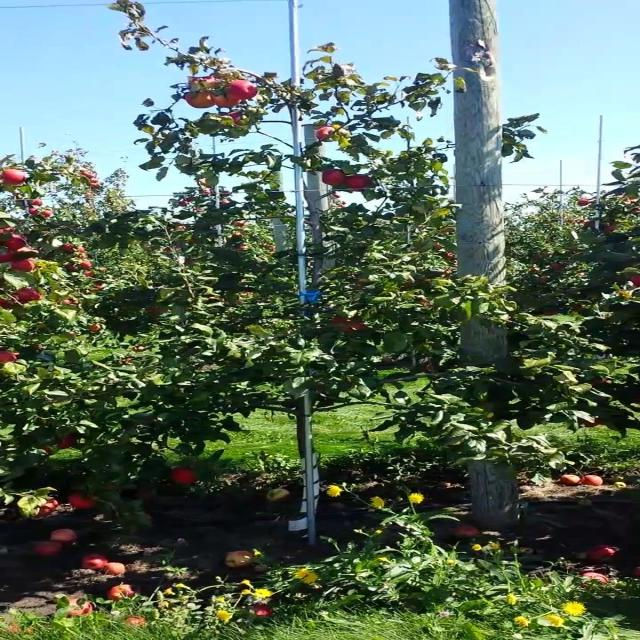apple: (227, 80, 258, 100), (70, 492, 98, 510), (170, 468, 199, 484), (13, 288, 43, 302), (212, 96, 242, 108), (184, 96, 213, 108), (348, 176, 372, 190), (326, 172, 348, 186), (13, 260, 36, 272), (6, 172, 28, 184), (6, 236, 28, 248), (198, 76, 220, 88), (340, 324, 368, 332), (319, 128, 334, 140), (63, 436, 78, 448), (227, 112, 242, 124), (582, 420, 604, 428), (20, 248, 36, 258), (6, 252, 20, 261), (6, 352, 18, 362), (1, 300, 16, 308), (63, 244, 76, 252), (589, 380, 608, 385), (6, 300, 16, 308), (70, 264, 78, 272), (6, 228, 14, 232)
